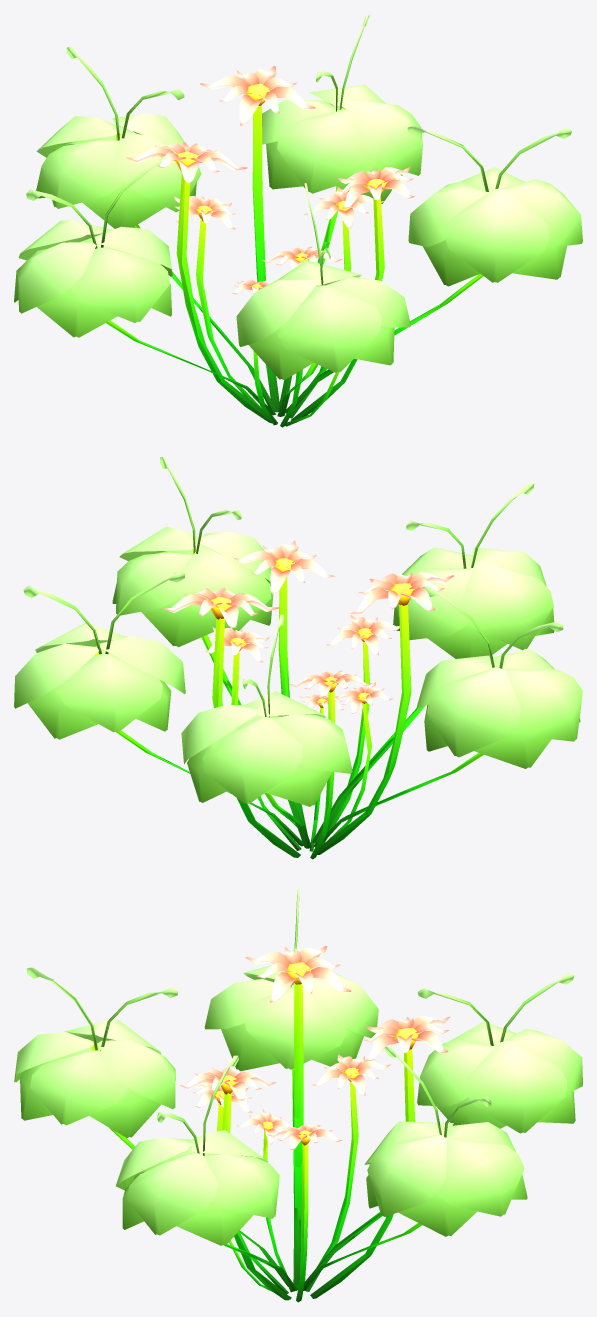
Rendered from sprouted_pink_lily.glb.
3 views of the same model, one above another, from view 1: azimuth 30°, elevation 25°; view 2: azimuth 150°, elevation 25°; view 3: azimuth 270°, elevation 25° (orthographic).
Visible parts, largest first — view 1: Sprouted Pink Lily; view 2: Sprouted Pink Lily; view 3: Sprouted Pink Lily.
Part boxes in pixels (x1,y1,x2,y2): Sprouted Pink Lily: (14, 14, 582, 427); Sprouted Pink Lily: (14, 456, 582, 859); Sprouted Pink Lily: (14, 888, 582, 1302).
Size of the model in its own units: 2.59 by 1.47 by 2.59.
1 material, 1 textured.
